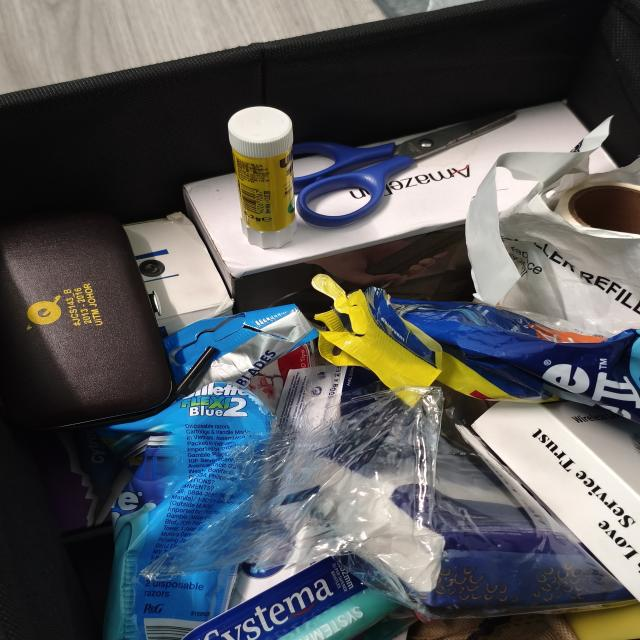glue: (228, 105, 298, 249)
scissor: (293, 112, 515, 227)
